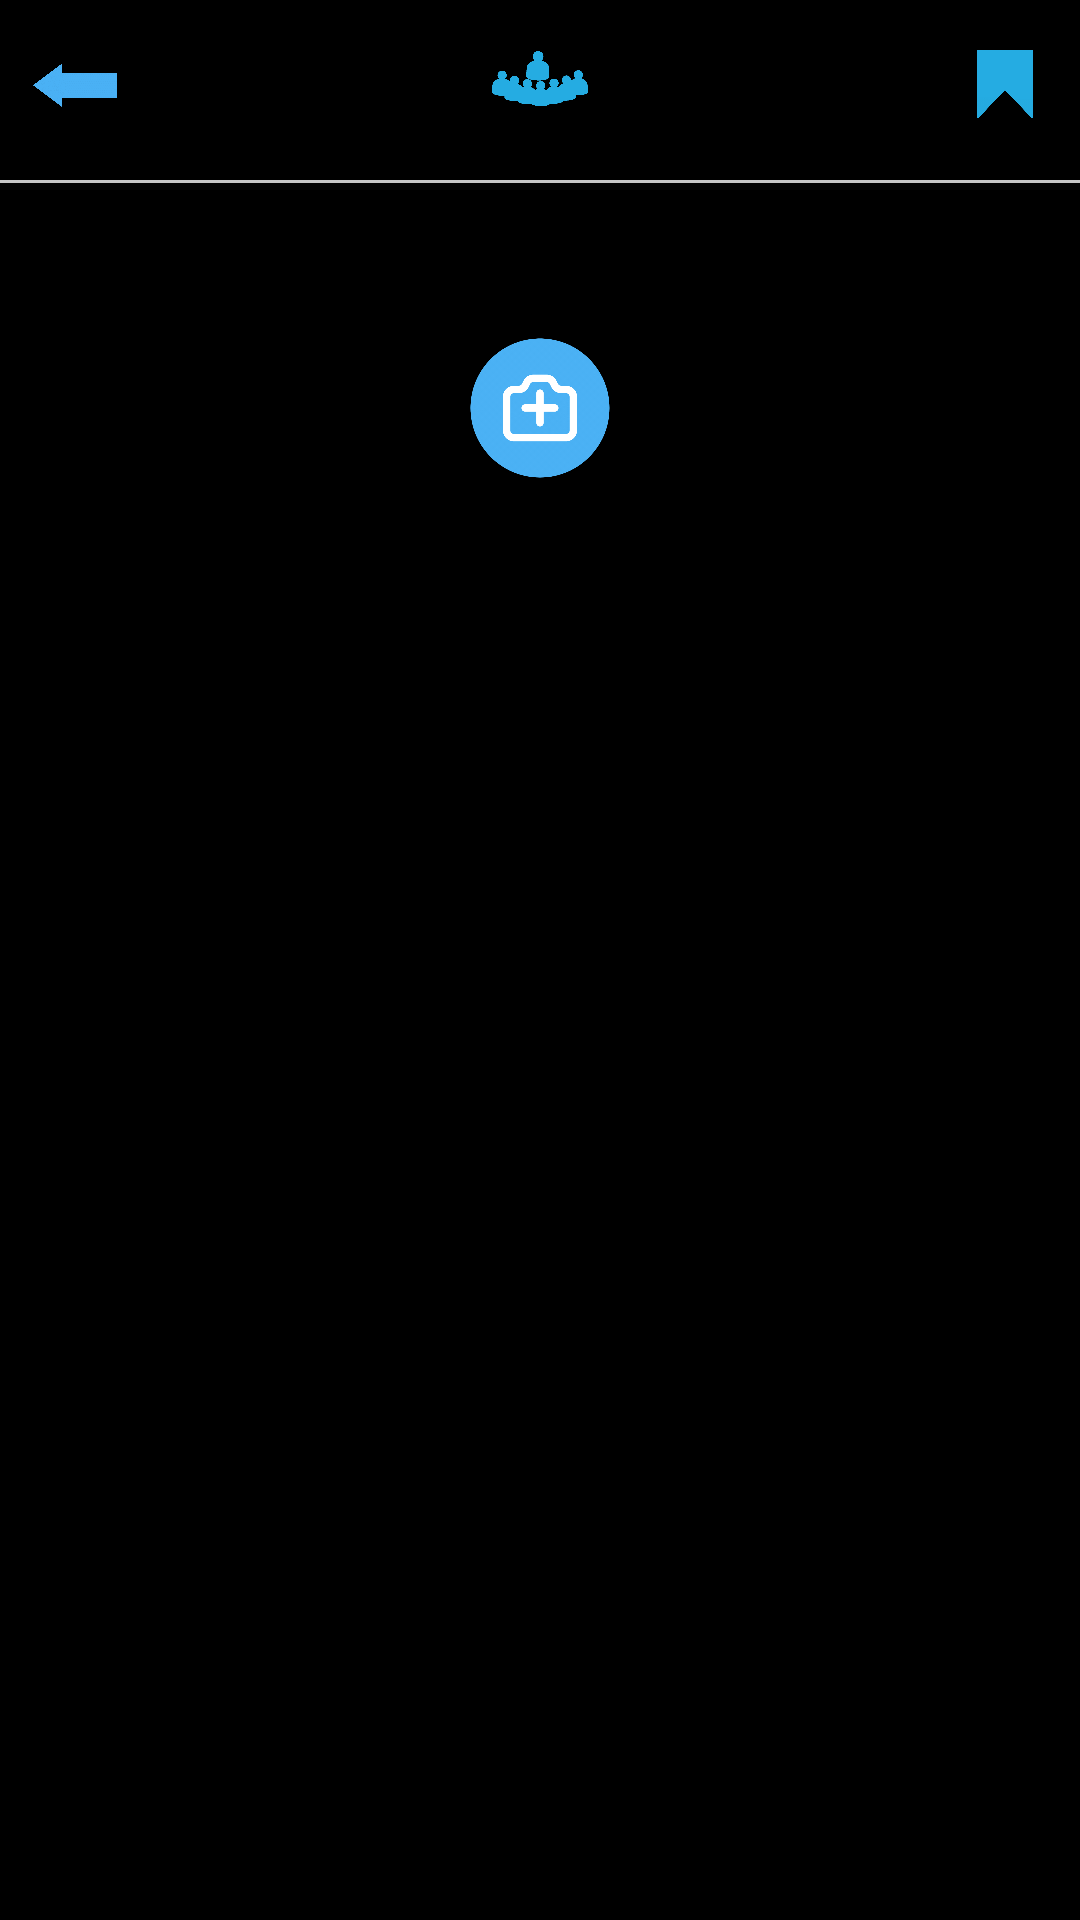

Named icons in this screenshot (1080 × 1920) and their centers, point (x, y):
back: point (75, 85)
picker: point (540, 408)
save: point (1005, 84)
